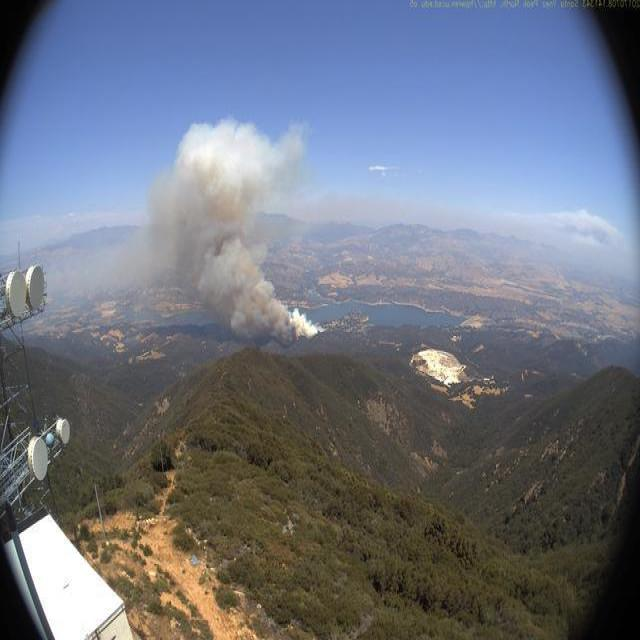Smoke: (136, 109, 339, 344)
